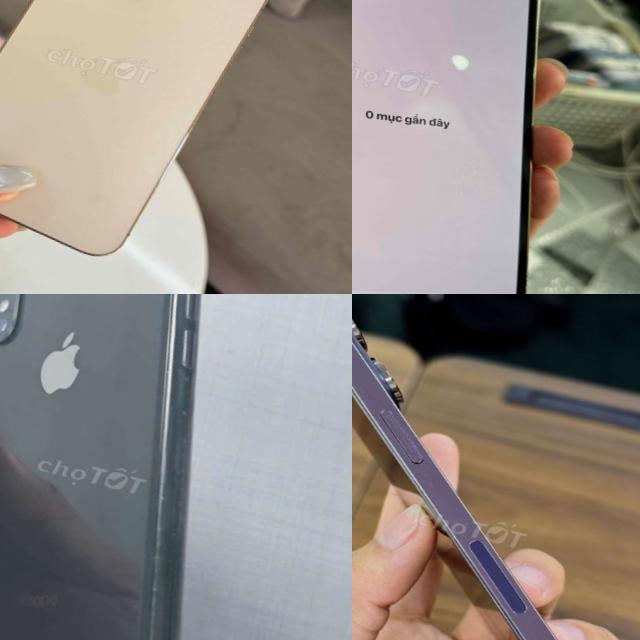gen_12_13: (0, 0, 292, 287), (352, 0, 618, 294)
gen_14: (352, 294, 640, 640)
gen_x_xs: (0, 294, 200, 640)
